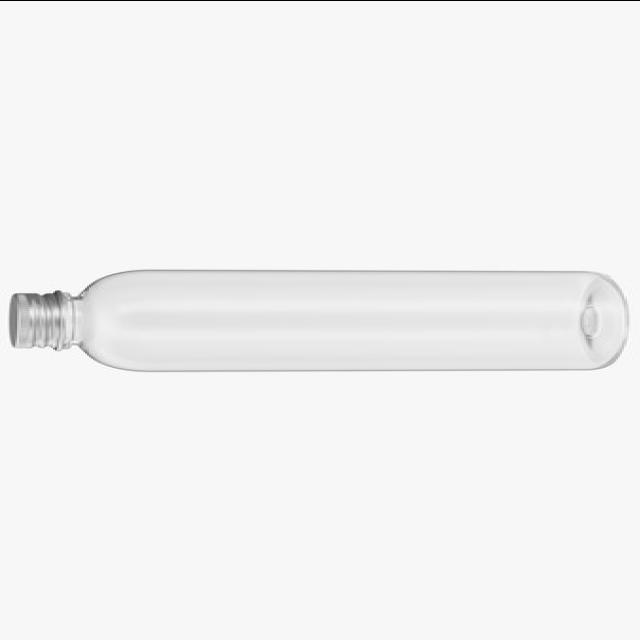bottom: (579, 276, 626, 363)
neck: (73, 271, 130, 367)
